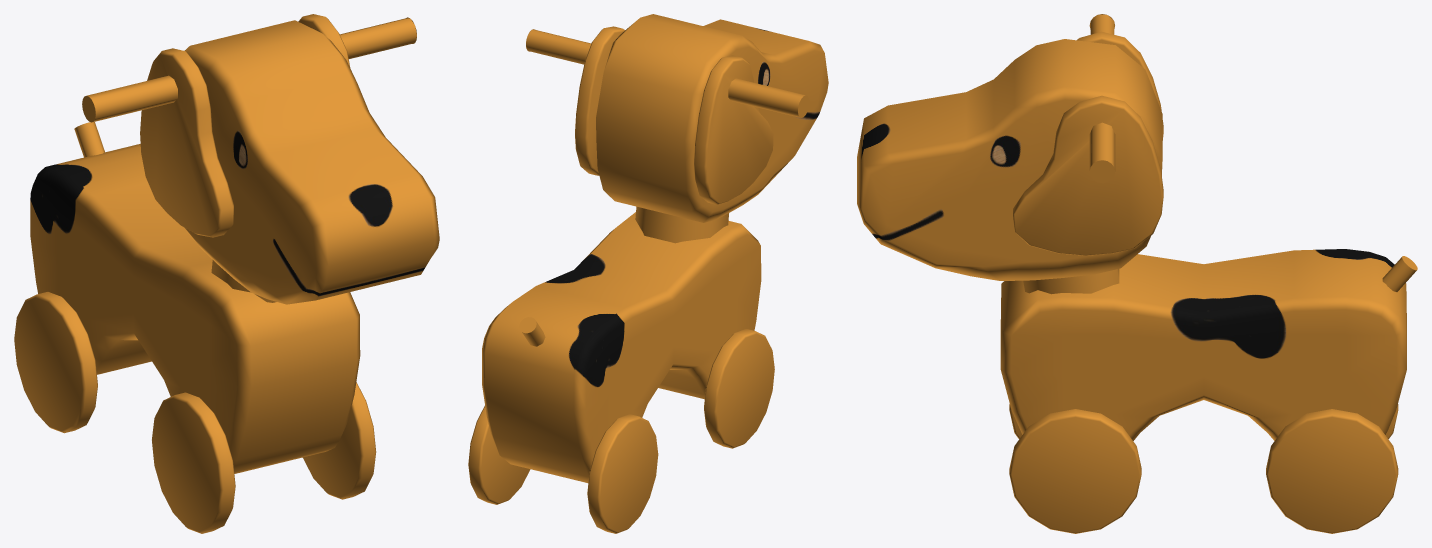
The model's file is Dog_Toy_Collider.fbx.
The picture shows the model from 3 angles, left to right: view 1: azimuth 30°, elevation 25°; view 2: azimuth 150°, elevation 25°; view 3: azimuth 270°, elevation 25°; orthographic projection. The views are drawn at different scales.
Parts seen in each view (by area): view 1: Dog_Toy_Collider; view 2: Dog_Toy_Collider; view 3: Dog_Toy_Collider.
Boxes of the visible parts, x1,y1,x2,y2 form: Dog_Toy_Collider: (14, 14, 439, 533); Dog_Toy_Collider: (468, 14, 828, 533); Dog_Toy_Collider: (857, 14, 1417, 533).
Bounding box in the file's own units: 78.75 × 110 × 128.
